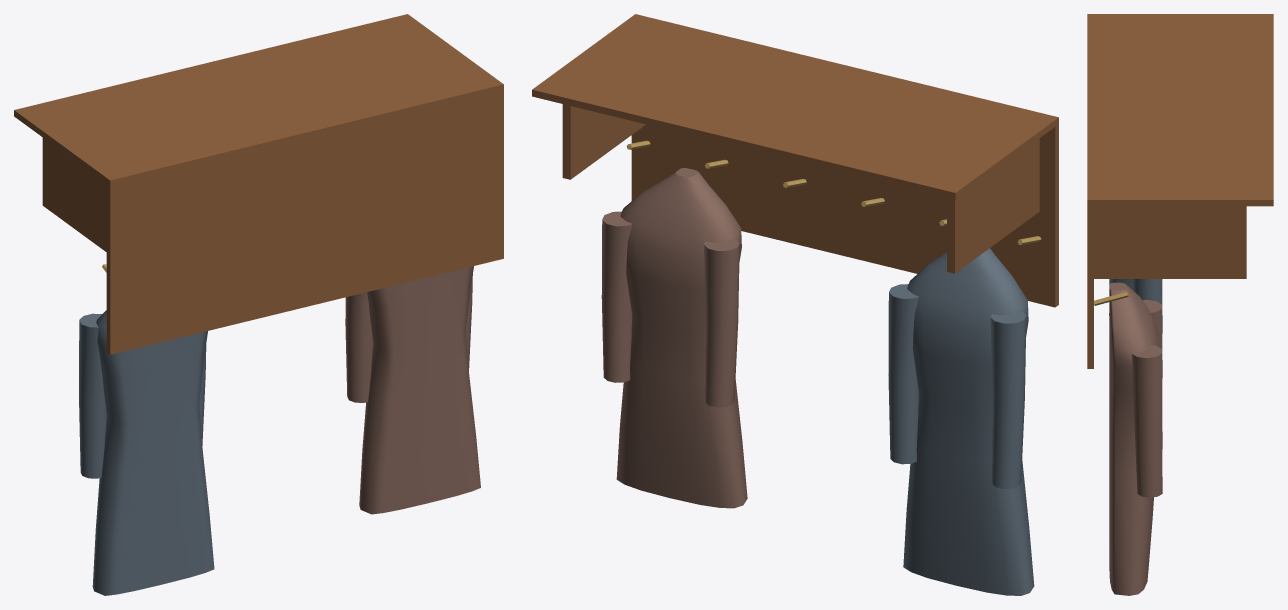
The model's file is parametric-wall-coat-rack-2nd-1300x0550x1950.glb.
3 renders of one model, left to right at view 1: azimuth 30°, elevation 25°; view 2: azimuth 150°, elevation 25°; view 3: azimuth 270°, elevation 25°, orthographic. The views are drawn at different scales.
Visible parts, largest first — view 1: backboard, hat-shelf, coat:0, coat:1, bracket:-1, coat-sleeve:0:-1, coat-sleeve:1:-1; view 2: hat-shelf, coat:0, coat:1, backboard, bracket:-1, coat-sleeve:0:-1, coat-sleeve:1:-1, coat-sleeve:0:1, coat-sleeve:1:1, bracket:1; view 3: hat-shelf, bracket:1, coat:1, coat-sleeve:1:1, backboard, coat-sleeve:0:1, coat-sleeve:1:-1.
Boxes of the visible parts, x1,y1,x2,y2 form: backboard: [106, 91, 503, 354]; hat-shelf: [14, 14, 503, 186]; coat:0: [92, 310, 214, 595]; coat:1: [359, 266, 480, 514]; bracket:-1: [42, 138, 106, 251]; coat-sleeve:0:-1: [79, 313, 106, 478]; coat-sleeve:1:-1: [345, 292, 373, 402]; hat-shelf: [532, 14, 1058, 199]; coat:0: [903, 248, 1034, 595]; coat:1: [616, 168, 747, 508]; backboard: [631, 124, 1058, 307]; bracket:-1: [947, 138, 1039, 273]; coat-sleeve:0:-1: [990, 311, 1026, 488]; coat-sleeve:1:-1: [704, 239, 739, 407]; coat-sleeve:0:1: [888, 284, 919, 464]; coat-sleeve:1:1: [601, 211, 632, 382]; bracket:1: [562, 104, 645, 179]; hat-shelf: [1087, 14, 1273, 206]; bracket:1: [1094, 206, 1246, 278]; coat:1: [1109, 282, 1162, 595]; coat-sleeve:1:1: [1131, 345, 1162, 497]; backboard: [1087, 206, 1093, 368]; coat-sleeve:0:1: [1133, 279, 1162, 377]; coat-sleeve:1:-1: [1143, 299, 1162, 448].
Size of the model in its own units: 1.3 by 1.35 by 0.55.
